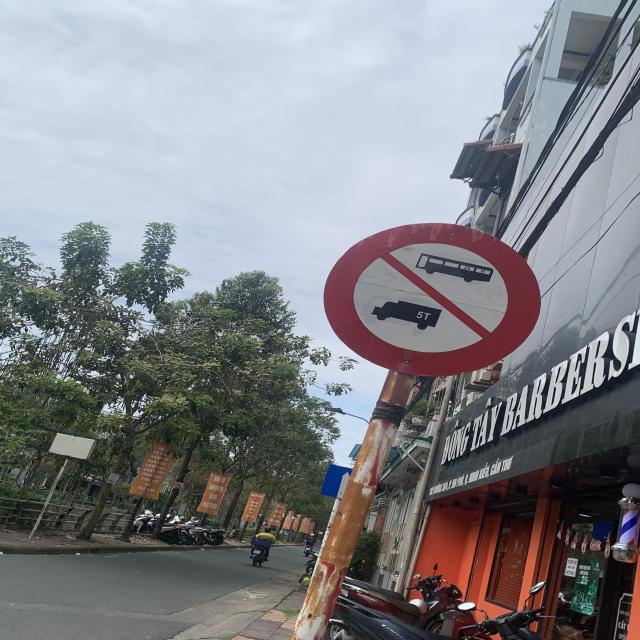Cam_XeTai_XeKhach: (324, 221, 541, 377)
